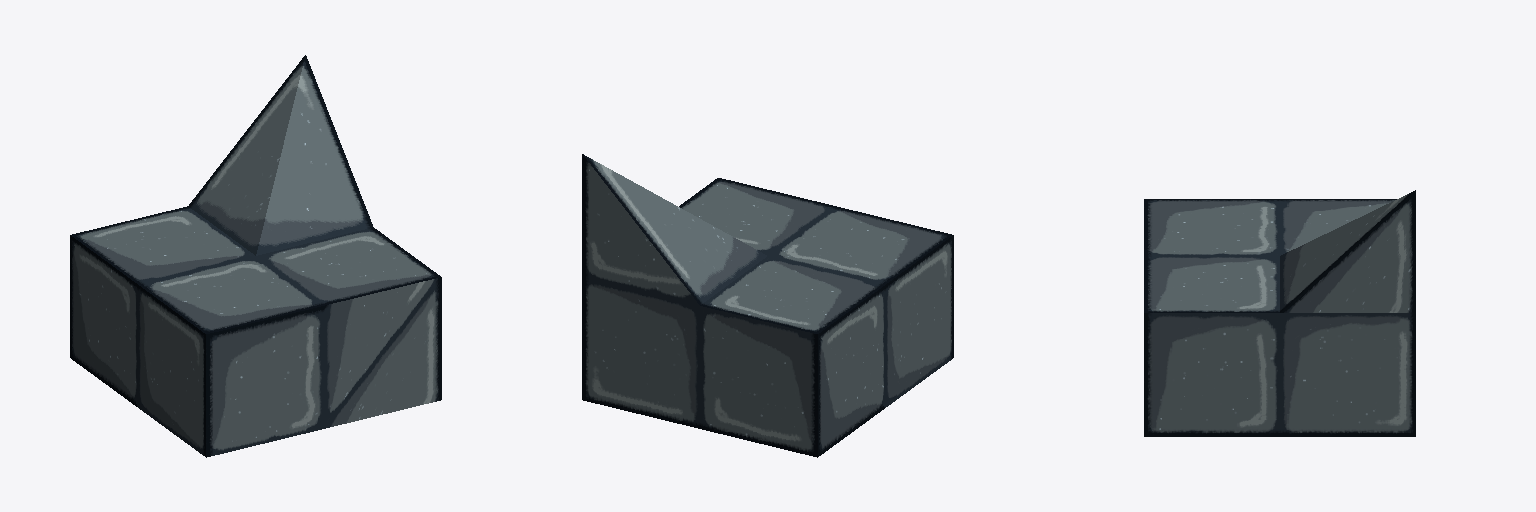
3 views of the same model, side by side, from view 1: azimuth 30°, elevation 25°; view 2: azimuth 150°, elevation 25°; view 3: azimuth 270°, elevation 25° (orthographic).
Visible parts, largest first — view 1: 12_stone; view 2: 12_stone; view 3: 12_stone.
Boxes of the visible parts, x1,y1,x2,y2 form: 12_stone: [70, 55, 441, 457]; 12_stone: [582, 154, 953, 457]; 12_stone: [1144, 190, 1415, 436].
Size of the model in its own units: 1 by 1 by 1.
Materials: 1 (1 with a texture image).